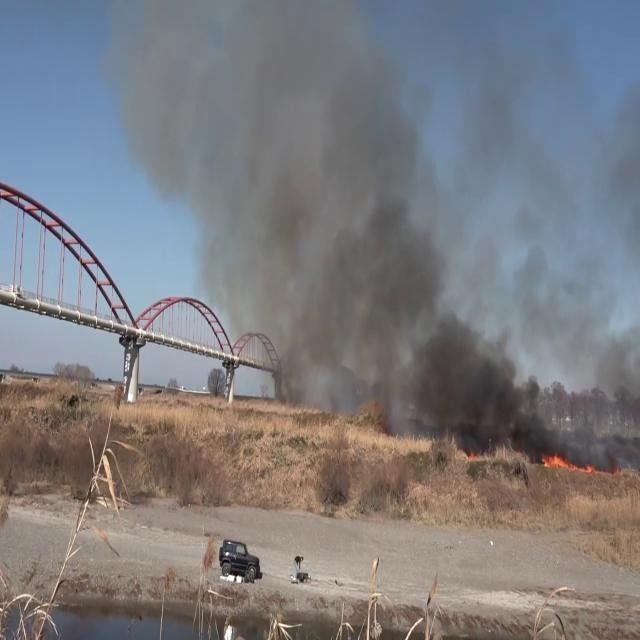Smoke: (107, 1, 638, 460)
